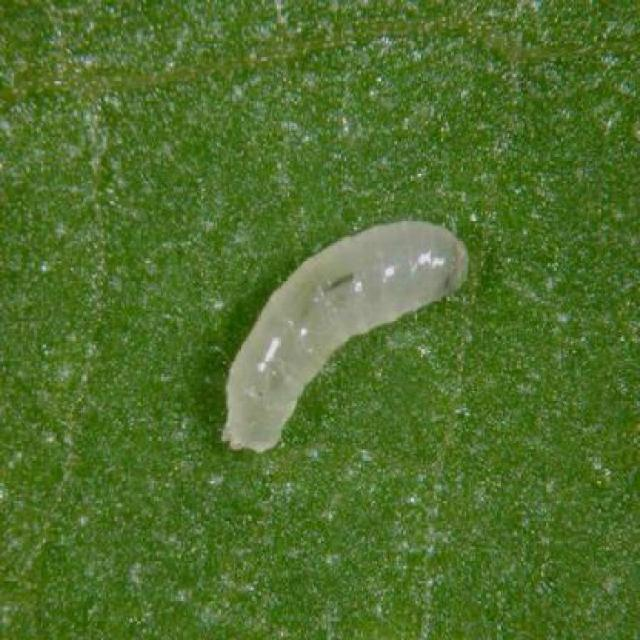whorl-maggot: (216, 214, 470, 457)
